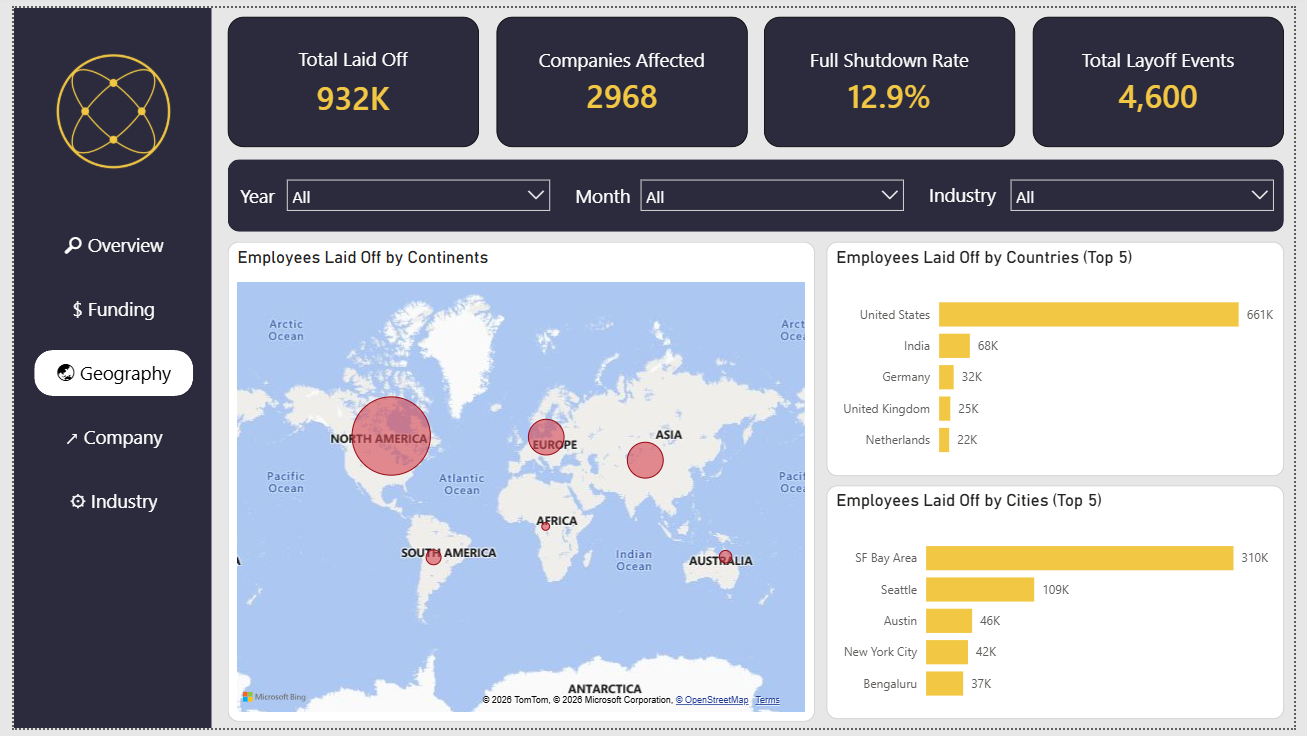

What the dashboard file says about the page in this screenshot:
{"tool":"powerbi","page":{"name":"🌏︎ Geography","canvas":[1280,720],"ordinal":2},"visuals":[{"type":"shape","box":[0,0,197.5,720],"z":0},{"type":"cardVisual","fields":{"Data":["Layoff Measures.Total Laid Off"]},"box":[213.5,8.8,251,130.4],"z":0,"group":"g2"},{"type":"shape","box":[213.8,151.2,1056.2,72.5],"z":0,"group":"g5"},{"type":"group","id":"g1","title":"Group 2","box":[221.2,161.1,324.1,49.5],"z":0,"group":"g7"},{"type":"group","id":"g2","title":"Group 1","box":[213.5,8.8,1056,130.4],"z":1000},{"type":"cardVisual","fields":{"Data":["Layoff Measures.Total Layoff Events"]},"box":[1018.5,8.8,251,130.4],"z":1000,"group":"g2"},{"type":"group","id":"g3","title":"Group 4","box":[556.5,161.1,343.8,49.5],"z":1000,"group":"g7"},{"type":"cardVisual","fields":{"Data":["General Measures.Companies Affected"]},"box":[481.7,9.2,251.2,130],"z":2000,"group":"g2"},{"type":"image","box":[6.2,22.5,186.2,161.2],"z":2000},{"type":"group","id":"g4","title":"Group 5","box":[910.3,161.1,359.4,50.7],"z":2000,"group":"g7"},{"type":"cardVisual","fields":{"Data":["General Measures.Full Shutdowns % (Disclosed)"]},"box":[750.3,8.8,251,130.4],"z":3000,"group":"g2"},{"type":"barChart","title":"Employees Laid Off by Countries (Top 5)","fields":{"Category":["dim_country.country"],"Y":["Layoff Measures.Total Laid Off"]},"box":[812.5,233.8,457.5,234],"z":4000},{"type":"barChart","title":"Employees Laid Off by Cities (Top 5)","fields":{"Category":["dim_city.city"],"Y":["Layoff Measures.Total Laid Off"]},"box":[812.5,477.5,457.5,233.8],"z":5000},{"type":"map","title":"Employees Laid Off by Continents","fields":{"Category":["dim_country.Continent"],"Size":["Layoff Measures.Total Laid Off"]},"box":[213.8,233.8,587.5,480],"z":6000},{"type":"group","id":"g5","title":"Group 7","box":[213.8,151.2,1056.2,72.5],"z":7000},{"type":"textbox","box":[556.5,169.8,82.9,35.9],"z":7002,"group":"g3"},{"type":"slicer","fields":{"Values":["dim_date.Year"]},"box":[262,161.1,283.3,49.5],"z":8000,"group":"g6"},{"type":"slicer","fields":{"Values":["dim_date.month_name"]},"box":[617,161.1,283.3,49.5],"z":8000,"group":"g3"},{"type":"slicer","fields":{"Values":["dim_industry.industry"]},"box":[986.5,161.1,283.3,50.7],"z":8000,"group":"g4"},{"type":"pageNavigator","box":[11.2,205,177.5,322.5],"z":8000},{"type":"group","id":"g6","title":"Group 3","box":[221.2,161.1,324.1,49.5],"z":8001,"group":"g1"},{"type":"textbox","box":[910.3,168.5,92.8,35.9],"z":9000,"group":"g4"},{"type":"textbox","box":[221.2,169.9,65,36.2],"z":9001,"group":"g6"},{"type":"group","id":"g7","title":"Group 6","box":[221.2,161.1,1048.5,50.7],"z":9003,"group":"g5"}]}

Visuals, with their boxes on the page's 1280x720 design canvas (x1, y1, x2, y2). These are canvas units, not pixel positions in the 1307x736 screenshot, which may show the page scaled, cropped or inside an application window:
shape: (x1=0, y1=0, x2=198, y2=720)
cardVisual - Layoff Measures.Total Laid Off: (x1=214, y1=9, x2=464, y2=139)
shape: (x1=214, y1=151, x2=1270, y2=224)
"Group 2" group: (x1=221, y1=161, x2=545, y2=211)
"Group 1" group: (x1=214, y1=9, x2=1270, y2=139)
cardVisual - Layoff Measures.Total Layoff Events: (x1=1018, y1=9, x2=1270, y2=139)
"Group 4" group: (x1=556, y1=161, x2=900, y2=211)
cardVisual - General Measures.Companies Affected: (x1=482, y1=9, x2=733, y2=139)
image: (x1=6, y1=22, x2=192, y2=184)
"Group 5" group: (x1=910, y1=161, x2=1270, y2=212)
cardVisual - General Measures.Full Shutdowns % (Disclosed): (x1=750, y1=9, x2=1001, y2=139)
"Employees Laid Off by Countries (Top 5)" barChart: (x1=812, y1=234, x2=1270, y2=468)
"Employees Laid Off by Cities (Top 5)" barChart: (x1=812, y1=478, x2=1270, y2=711)
"Employees Laid Off by Continents" map: (x1=214, y1=234, x2=801, y2=714)
"Group 7" group: (x1=214, y1=151, x2=1270, y2=224)
textbox: (x1=556, y1=170, x2=639, y2=206)
slicer - dim_date.Year: (x1=262, y1=161, x2=545, y2=211)
slicer - dim_date.month_name: (x1=617, y1=161, x2=900, y2=211)
slicer - dim_industry.industry: (x1=986, y1=161, x2=1270, y2=212)
pageNavigator: (x1=11, y1=205, x2=189, y2=528)
"Group 3" group: (x1=221, y1=161, x2=545, y2=211)
textbox: (x1=910, y1=168, x2=1003, y2=204)
textbox: (x1=221, y1=170, x2=286, y2=206)
"Group 6" group: (x1=221, y1=161, x2=1270, y2=212)
